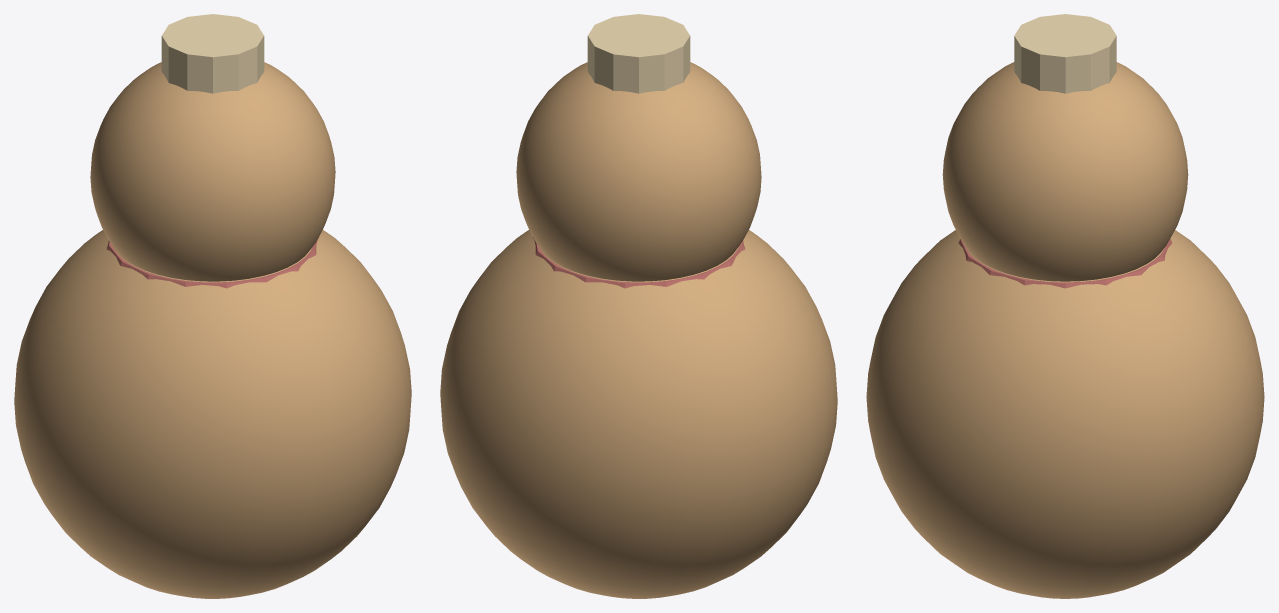
The picture shows the model from 3 angles, left to right: view 1: azimuth 30°, elevation 25°; view 2: azimuth 150°, elevation 25°; view 3: azimuth 270°, elevation 25°; orthographic projection.
Visible parts, largest first — view 1: gourd_bottom, gourd_top, gourd_neck, gourd_cord; view 2: gourd_bottom, gourd_top, gourd_neck, gourd_cord; view 3: gourd_bottom, gourd_top, gourd_neck, gourd_cord.
Part boxes in pixels (box(x1,y1,x2,y2)): gourd_bottom: box(14, 230, 411, 598); gourd_top: box(90, 62, 335, 281); gourd_neck: box(161, 14, 264, 93); gourd_cord: box(106, 237, 319, 288); gourd_bottom: box(440, 230, 837, 598); gourd_top: box(516, 62, 761, 281); gourd_neck: box(587, 14, 690, 93); gourd_cord: box(532, 237, 745, 288); gourd_bottom: box(866, 230, 1264, 598); gourd_top: box(942, 62, 1188, 281); gourd_neck: box(1014, 14, 1116, 93); gourd_cord: box(958, 239, 1172, 288).
Bounding box in the file's own units: 0.5835 × 0.8831 × 0.5835.
